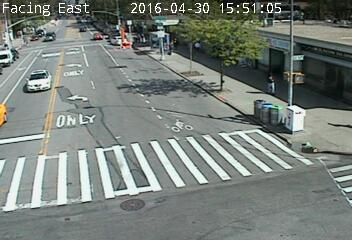neg: (104, 67, 121, 90), (87, 22, 102, 42), (199, 63, 213, 82), (27, 36, 39, 52), (45, 16, 57, 32), (135, 27, 145, 39), (150, 35, 157, 46)
pos: (264, 72, 280, 94)
